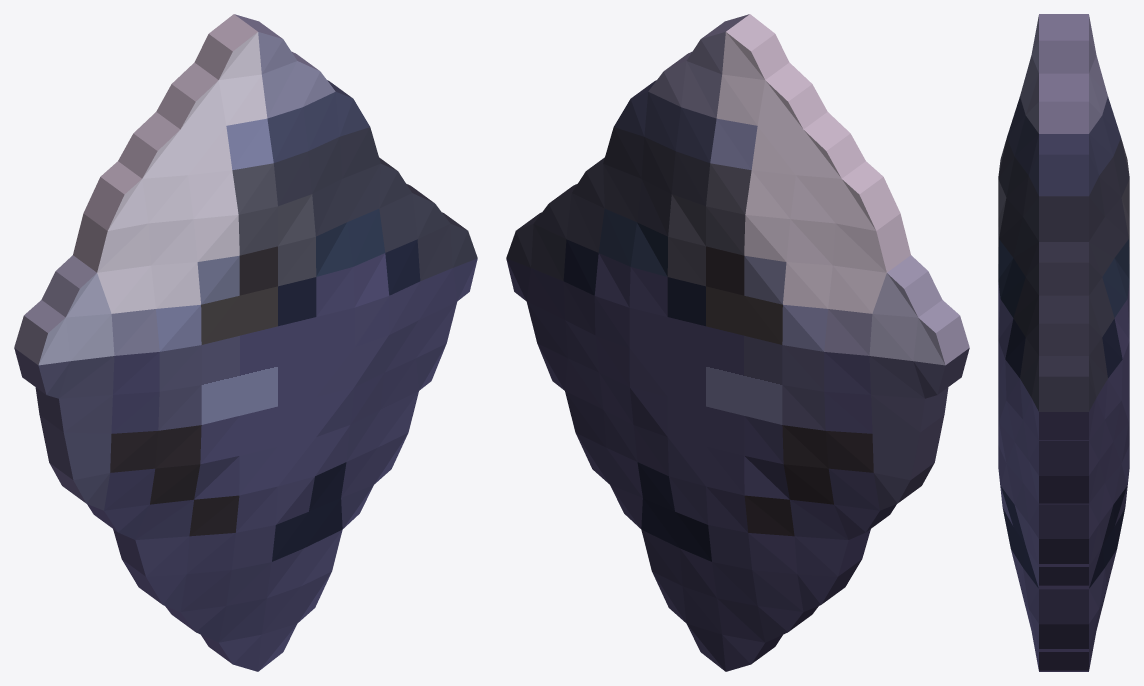
The model's file is obsidian_shard.glb.
3 views of the same model, side by side, from view 1: azimuth 30°, elevation 25°; view 2: azimuth 150°, elevation 25°; view 3: azimuth 270°, elevation 25° (orthographic). The views are drawn at different scales.
Parts seen in each view (by area): view 1: obsidian_shard; view 2: obsidian_shard; view 3: obsidian_shard.
Part boxes in pixels (bbox=[...]): obsidian_shard: bbox=[14, 14, 477, 671]; obsidian_shard: bbox=[506, 14, 969, 671]; obsidian_shard: bbox=[998, 14, 1129, 671].
Bounding box in the file's own units: 0.7182 × 1 × 0.1813.
Materials: 1 (1 with a texture image).
